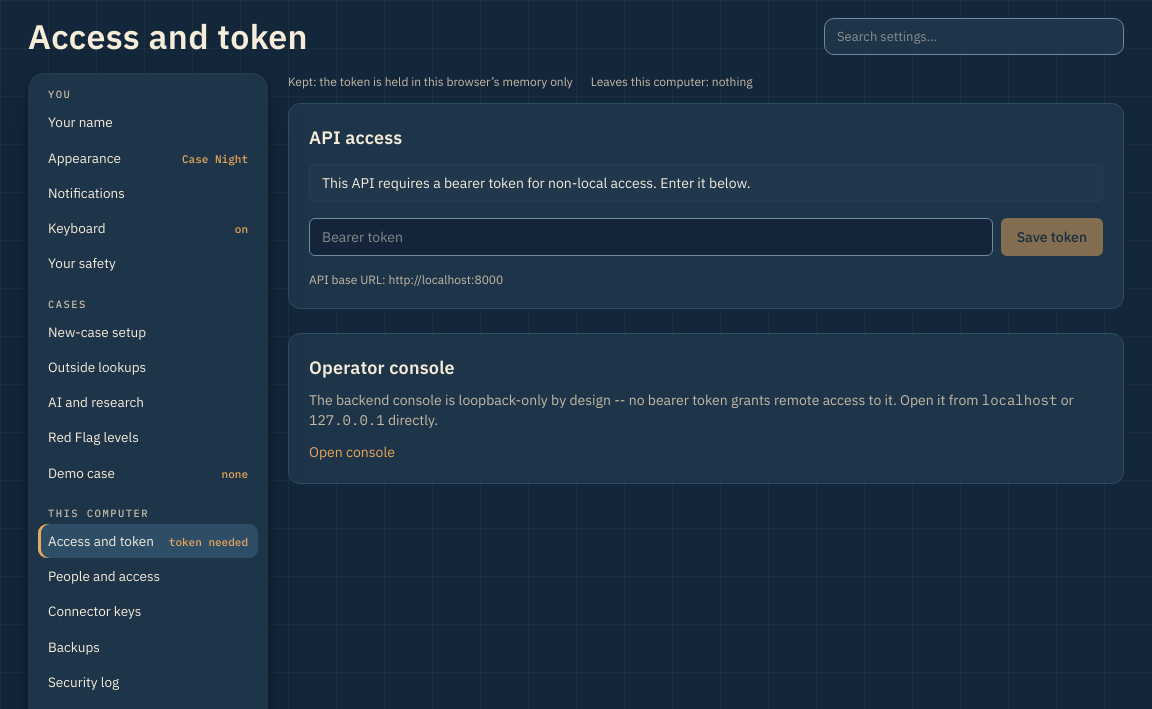
Test: Settings: API access › asks for a token, uses it for this session, and forgets it again
Expected: the text "This API requires a bearer token for non-local access. Enter it below." is shown, [309,164,1103,202]
Expected: the button "Save token" is disabled, [1001,218,1103,256]
Type "  session-token  " into the password field with placeholder "Bearer token" at (651, 237), box [309,218,993,256]
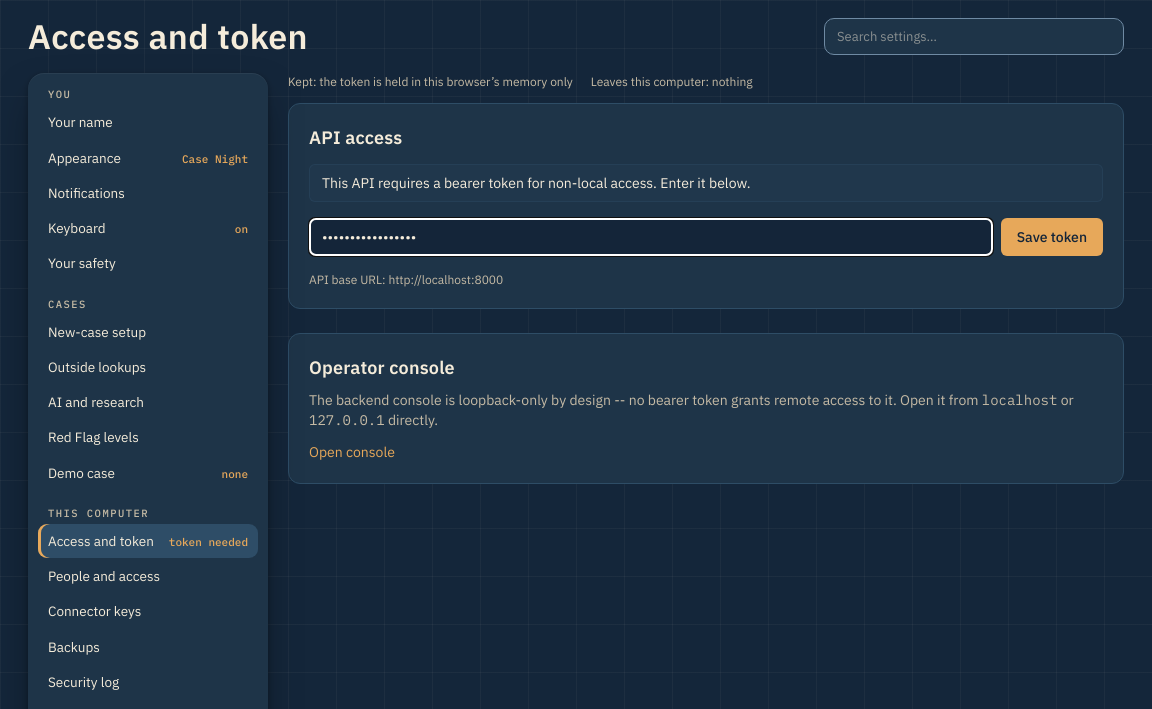
Click the button "Save token" at (1052, 237), box [1001,218,1103,256]
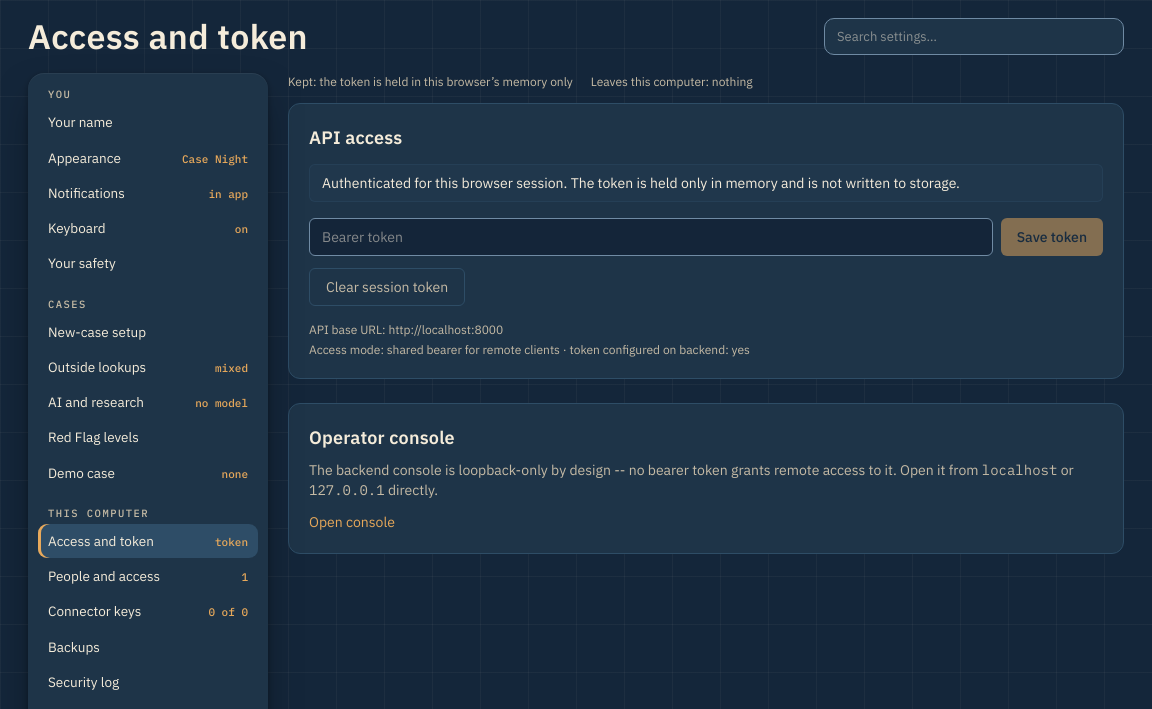
Expected: the text "Authenticated for this browser session. The token is held only in memory and is not written to storage." is shown, [322,174,960,192]
Expected: the text "Access mode:" reads "Access mode: shared bearer for remote clients · token configured on backend: yes", [309,342,750,357]
Expected: the password field with placeholder "Bearer token" is empty, [309,218,993,256]
Click the button "Clear session token" at (387, 287), box [309,268,465,306]
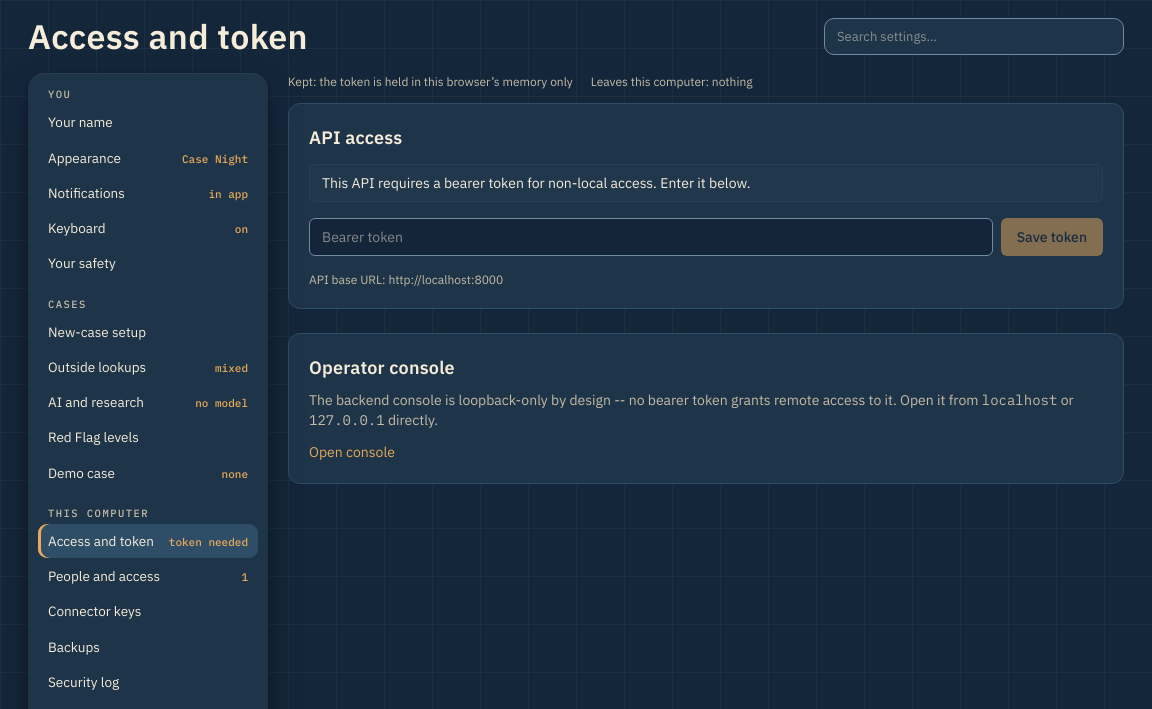
Expected: the text "This API requires a bearer token for non-local access. Enter it below." is shown, [309,164,1103,202]
Expected: the button "Clear session token" is gone
